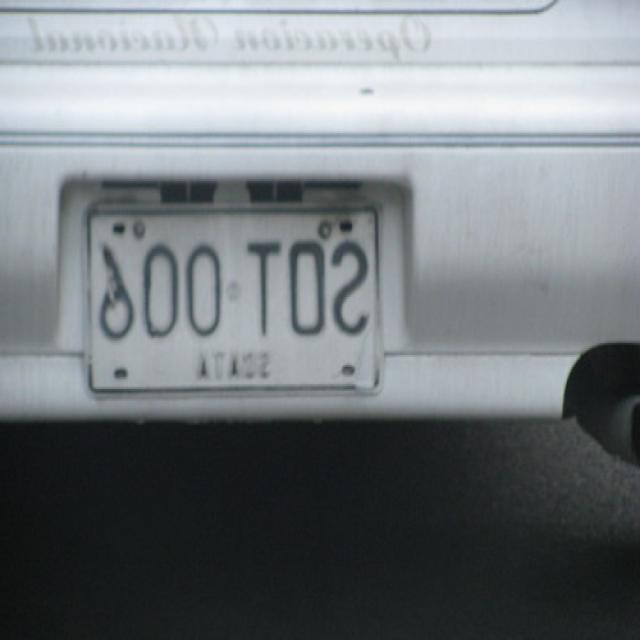placas: (91, 230, 378, 348)
